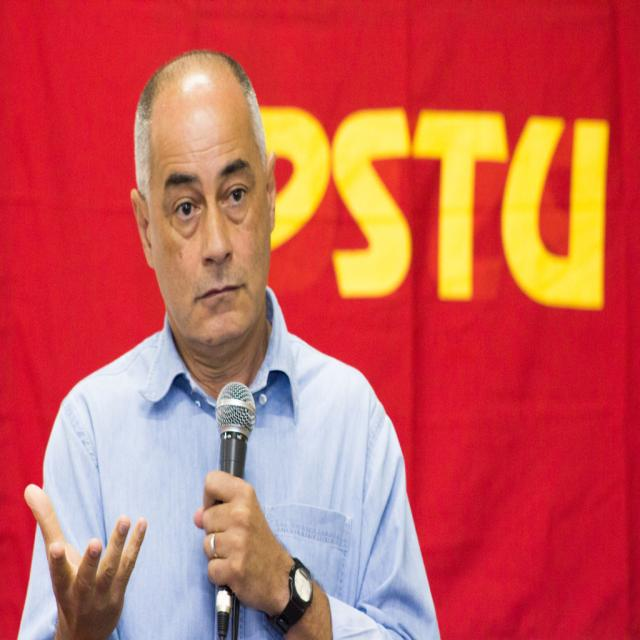no_helmet: (108, 119, 280, 274)
